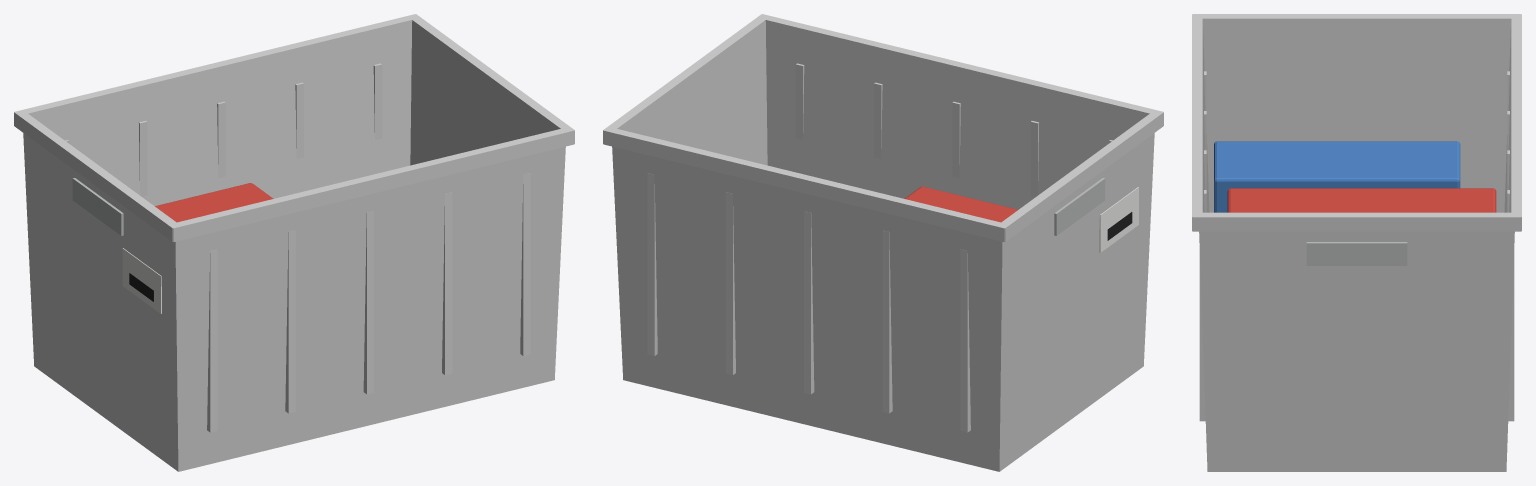
File: rapyuta_bin_v2.fbx
3 views of the same model, side by side, from view 1: azimuth 30°, elevation 25°; view 2: azimuth 150°, elevation 25°; view 3: azimuth 270°, elevation 25° (orthographic). The views are drawn at different scales.
Visible parts, largest first — view 1: RapyutaBin_v2; view 2: RapyutaBin_v2; view 3: RapyutaBin_v2.
Boxes of the visible parts, x1=… form: RapyutaBin_v2: x1=14, y1=14, x2=574, y2=471; RapyutaBin_v2: x1=603, y1=14, x2=1163, y2=471; RapyutaBin_v2: x1=1192, y1=14, x2=1521, y2=471.
Size of the model in its own units: 0.668 by 0.4 by 0.458.
